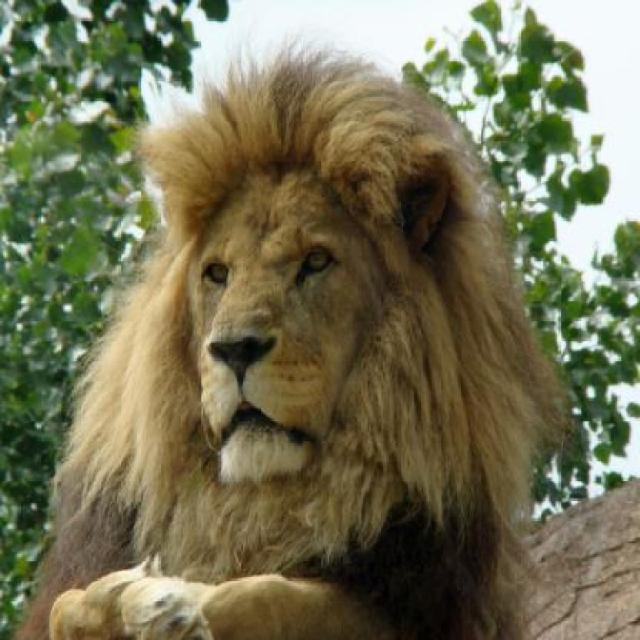Lion: (17, 52, 589, 638)
